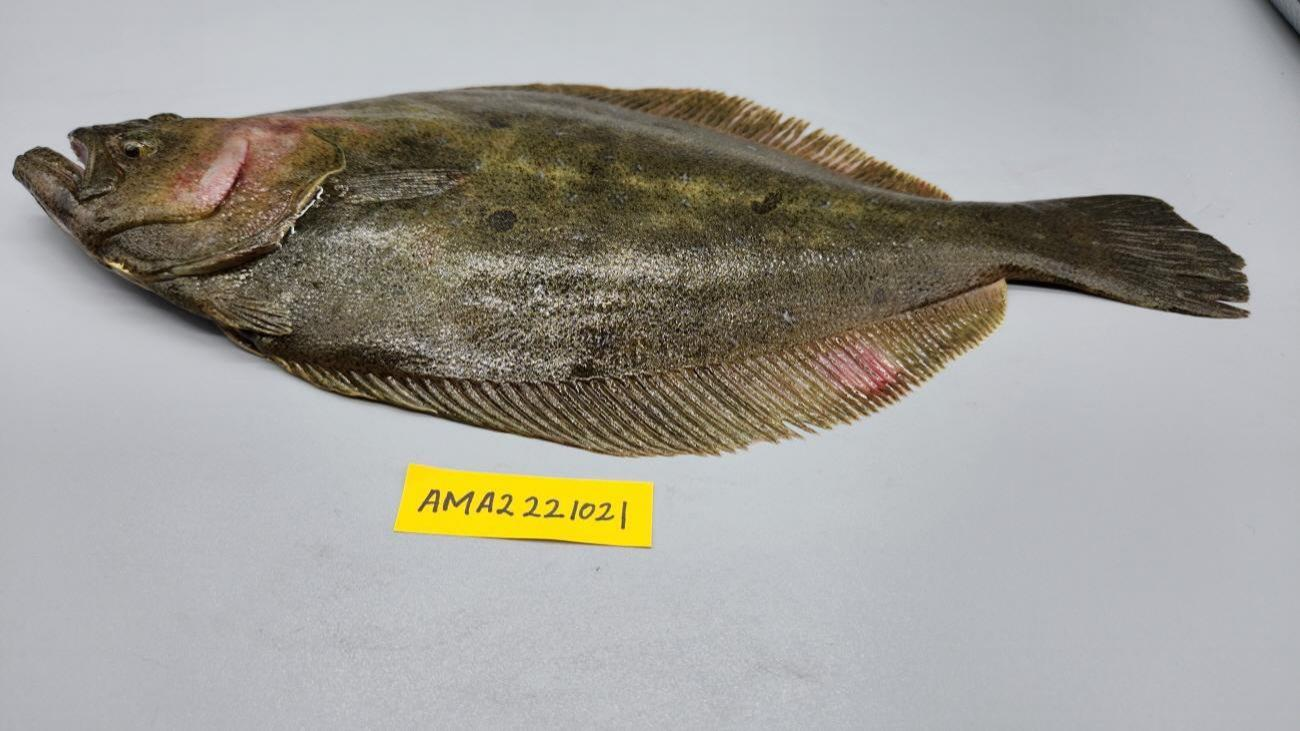MAOUY: (13, 86, 1248, 459)
